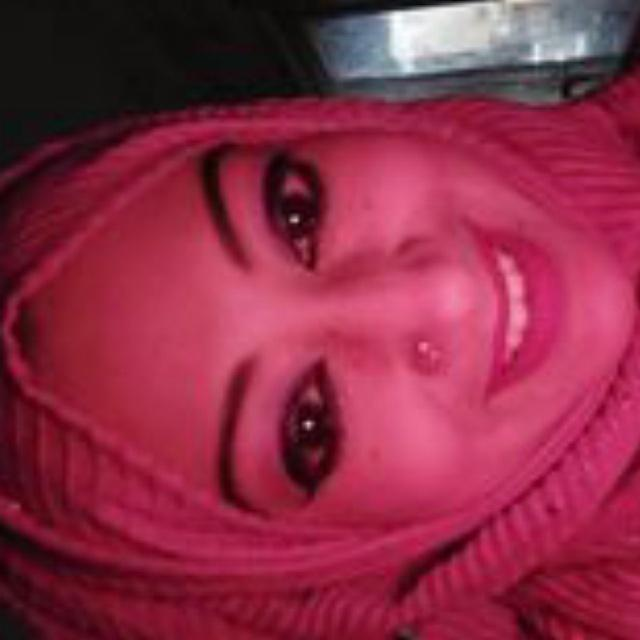Happy: (100, 56, 624, 534)
